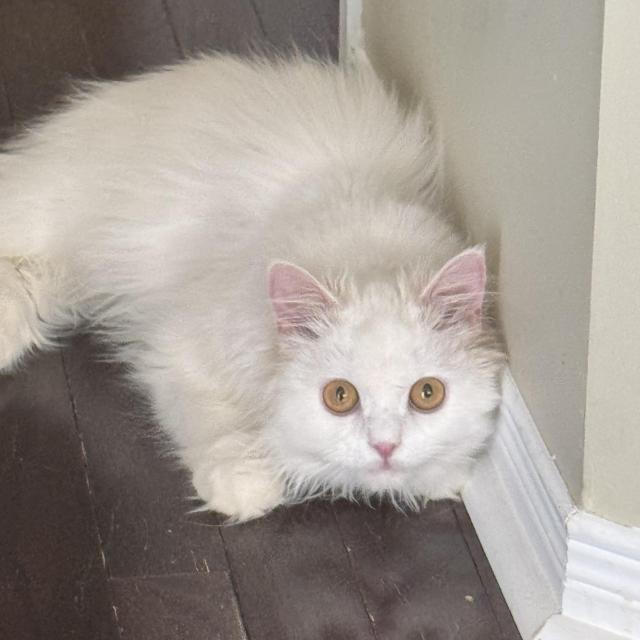persian_cat: (250, 228, 510, 517)
